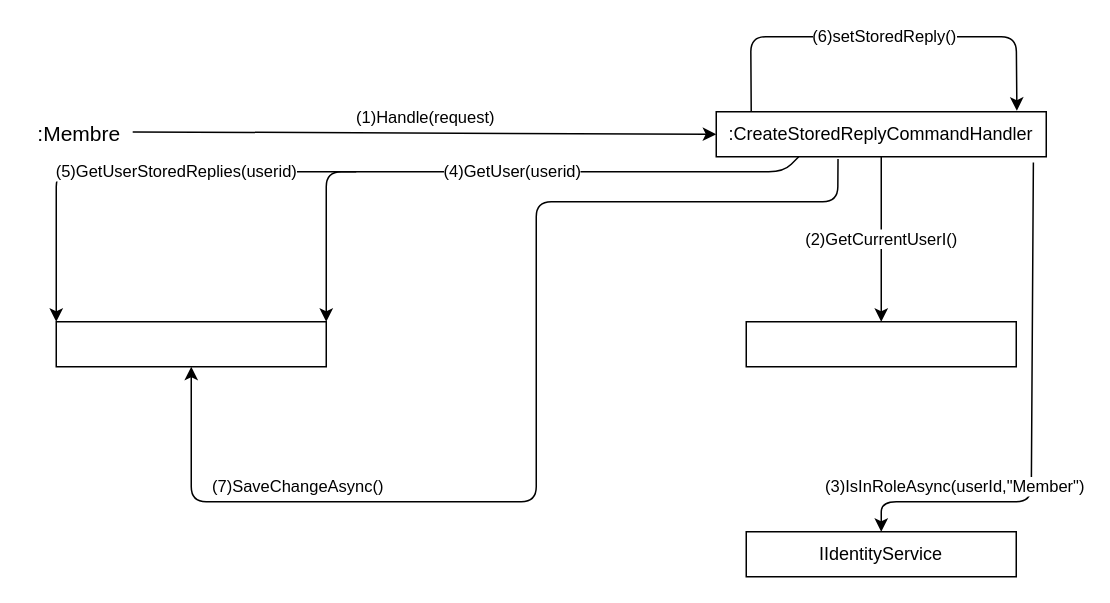
Image size: 1110x603. Some labels were removed from this diagram. The centre of each missing label's shape, as x and y in pixels:
"IApplicationDbContext" goes at pixel 190 343.
"ICurrentUserService" goes at pixel 880 343.
